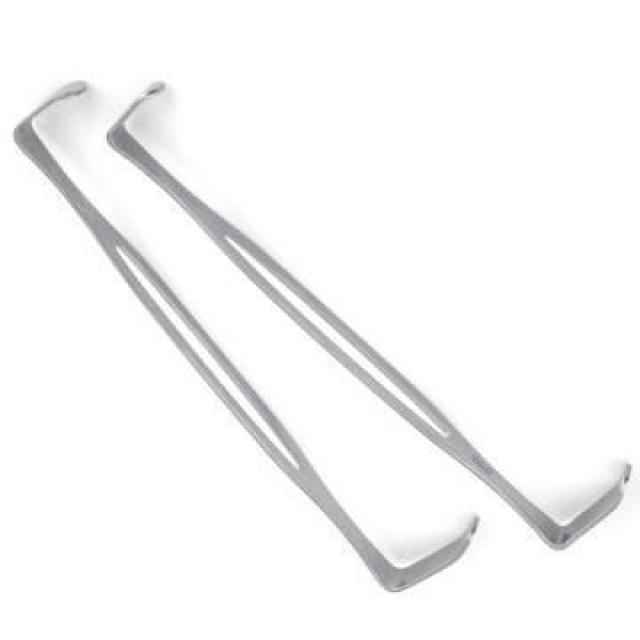Army_navy: (103, 76, 637, 556), (9, 77, 482, 598)
